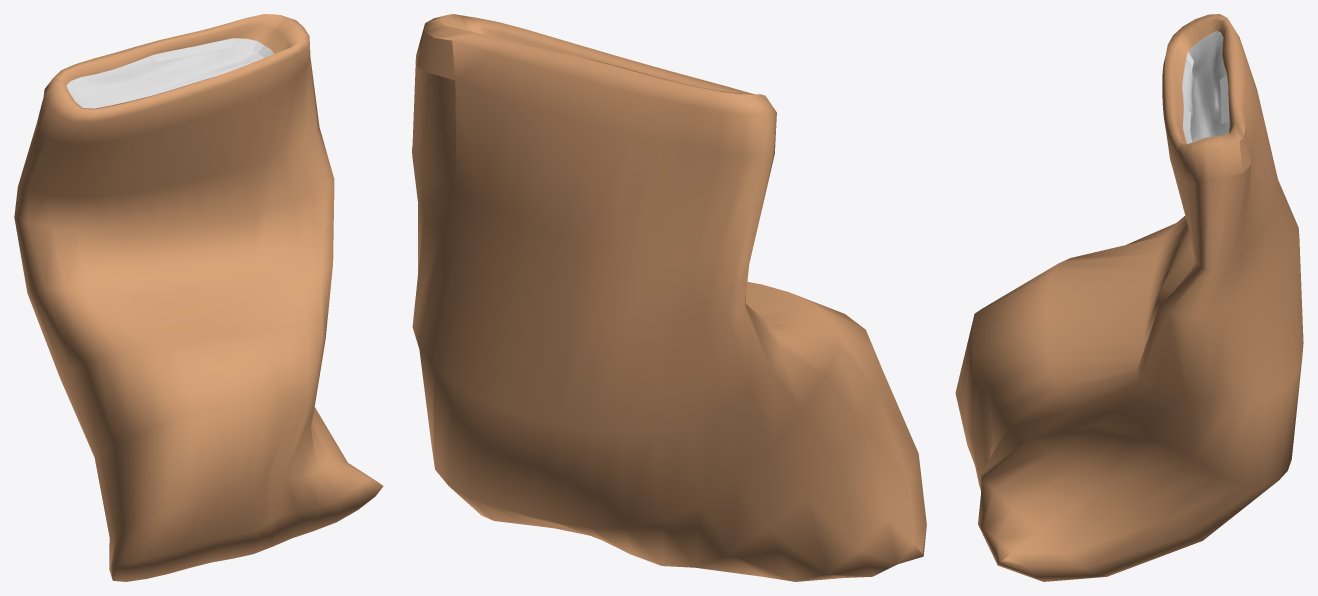
File: ASFTR_RiceSack.fbx
The picture shows the model from 3 angles, left to right: view 1: azimuth 30°, elevation 25°; view 2: azimuth 150°, elevation 25°; view 3: azimuth 270°, elevation 25°; orthographic projection. The views are drawn at different scales.
Parts seen in each view (by area): view 1: ASFTR_Ricebag; view 2: ASFTR_Ricebag; view 3: ASFTR_Ricebag.
Part boxes in pixels (bbox=[...]): ASFTR_Ricebag: bbox=[14, 14, 383, 581]; ASFTR_Ricebag: bbox=[412, 14, 926, 581]; ASFTR_Ricebag: bbox=[955, 14, 1303, 581].
Size of the model in its own units: 73.01 by 101 by 66.58.
